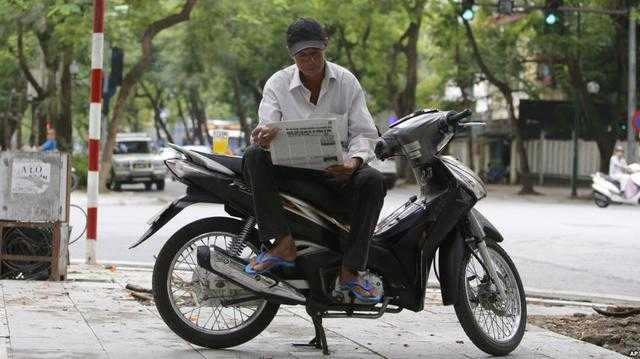car: (108, 132, 167, 193)
motorbike: (129, 106, 528, 357), (590, 163, 640, 208)
